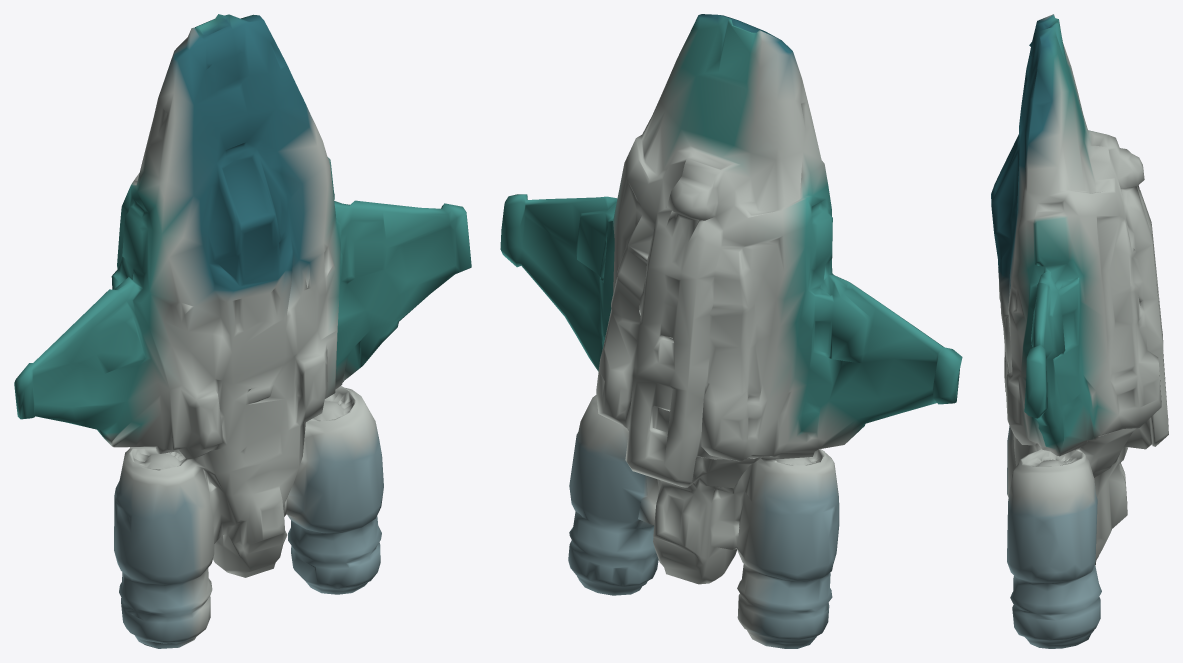
The model's file is scout.glb.
3 renders of one model, left to right at view 1: azimuth 30°, elevation 25°; view 2: azimuth 150°, elevation 25°; view 3: azimuth 270°, elevation 25°, orthographic. The views are drawn at different scales.
Visible parts, largest first — view 1: AI courier; view 2: AI courier; view 3: AI courier.
Part boxes in pixels (box(x1,y1,x2,y2)): AI courier: box(14, 14, 471, 648); AI courier: box(500, 14, 962, 648); AI courier: box(991, 14, 1168, 648).
Size of the model in its own units: 3.37 by 4.3 by 1.2.
